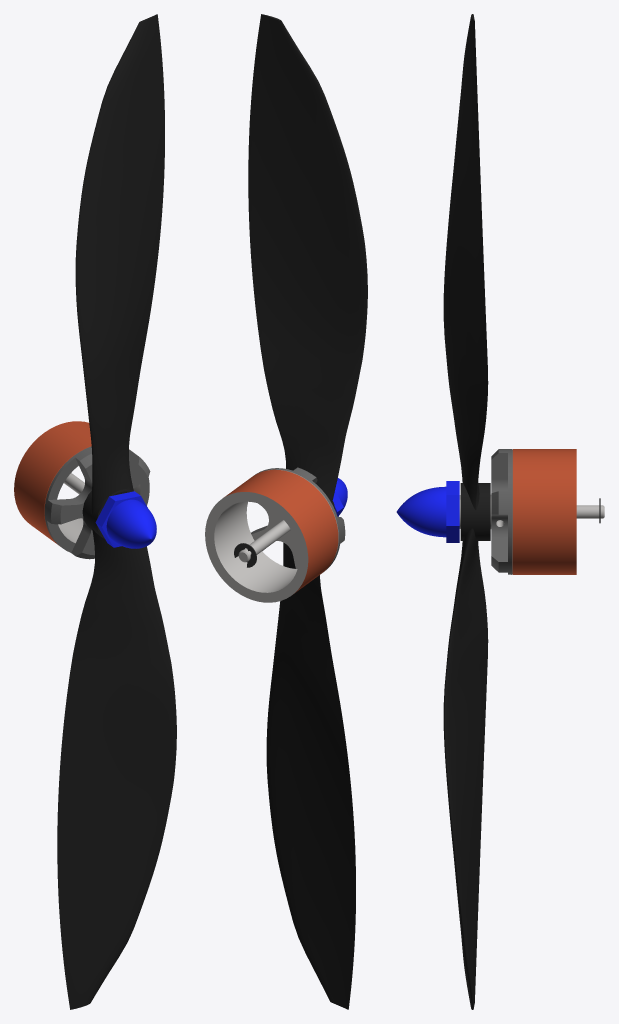
The model's file is Engine_back_cc.obj.
The picture shows the model from 3 angles, left to right: view 1: azimuth 30°, elevation 25°; view 2: azimuth 150°, elevation 25°; view 3: azimuth 270°, elevation 25°; orthographic projection. The views are drawn at different scales.
Visible parts, largest first — view 1: Solid1, Solid1:1; view 2: Solid1, Solid1:1; view 3: Solid1, Solid1:1.
Part boxes in pixels (x1,y1,x2,y2): Solid1: (57, 14, 176, 1009); Solid1:1: (14, 421, 156, 559); Solid1: (248, 14, 367, 1009); Solid1:1: (205, 467, 347, 602); Solid1: (443, 14, 490, 1009); Solid1:1: (396, 449, 604, 574).
Bounding box in the file's own units: 0.0291 × 0.2525 × 0.0464.
